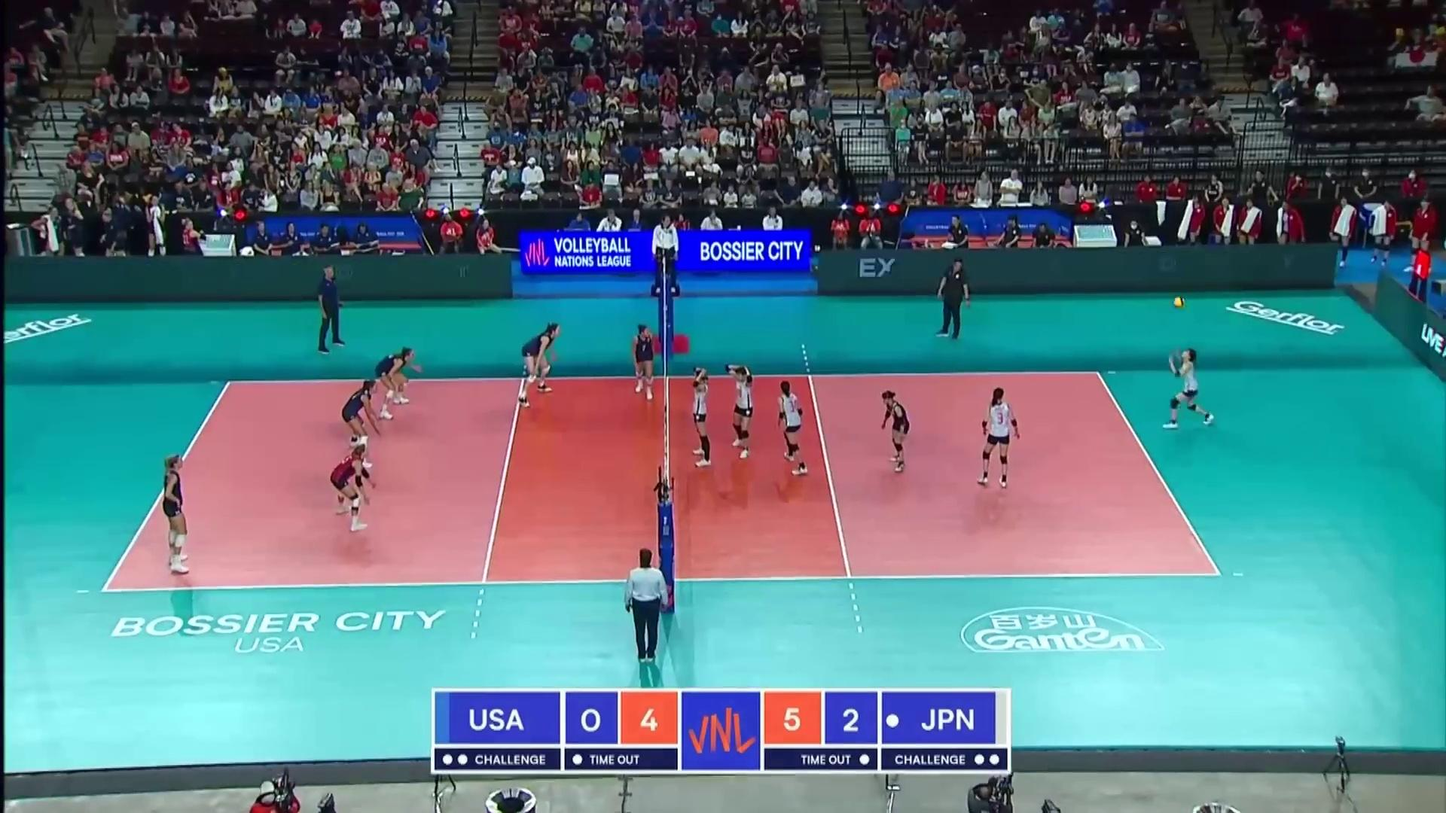player: (979, 389, 1022, 489), (1162, 349, 1215, 427), (331, 446, 375, 531), (343, 381, 383, 468), (518, 324, 559, 406), (375, 349, 422, 417), (163, 455, 189, 574), (776, 381, 809, 474), (725, 364, 755, 458), (880, 391, 911, 472), (692, 366, 714, 467), (633, 323, 656, 400)
refree: (626, 547, 670, 666), (650, 216, 680, 291)
